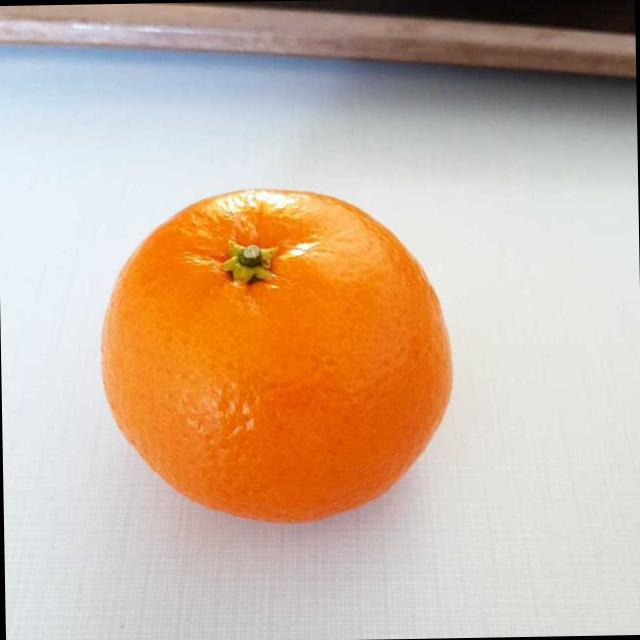Orange: (91, 171, 462, 532)
